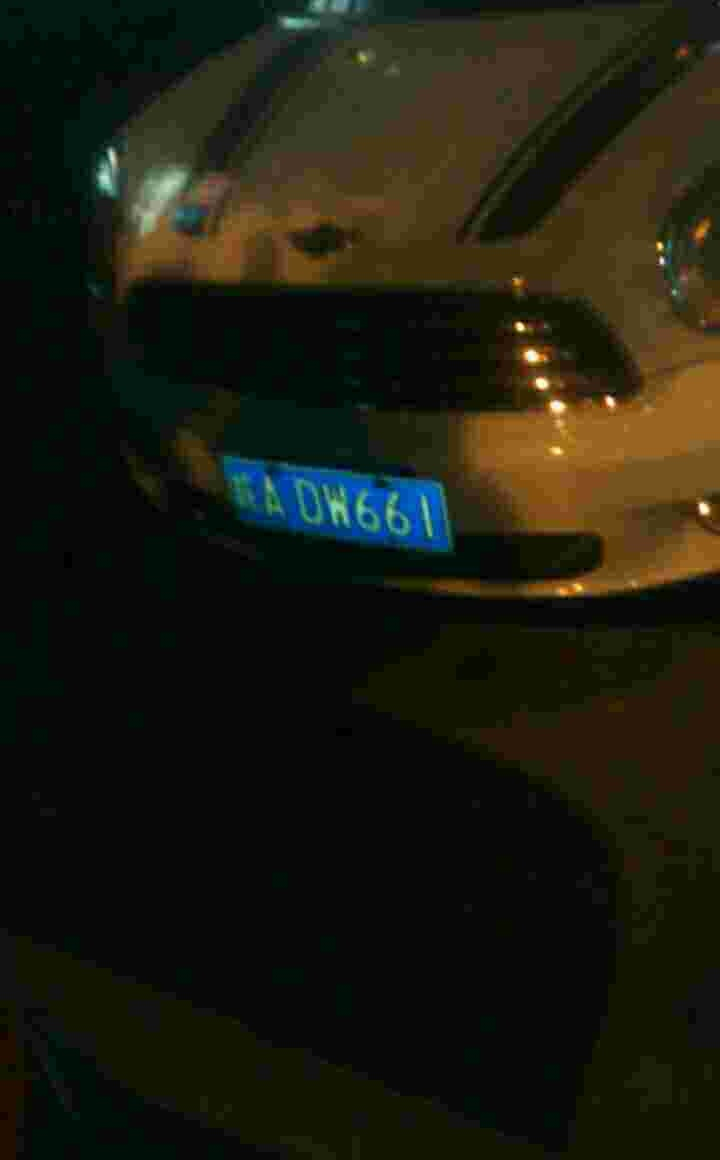license_plate: (225, 454, 449, 552)
